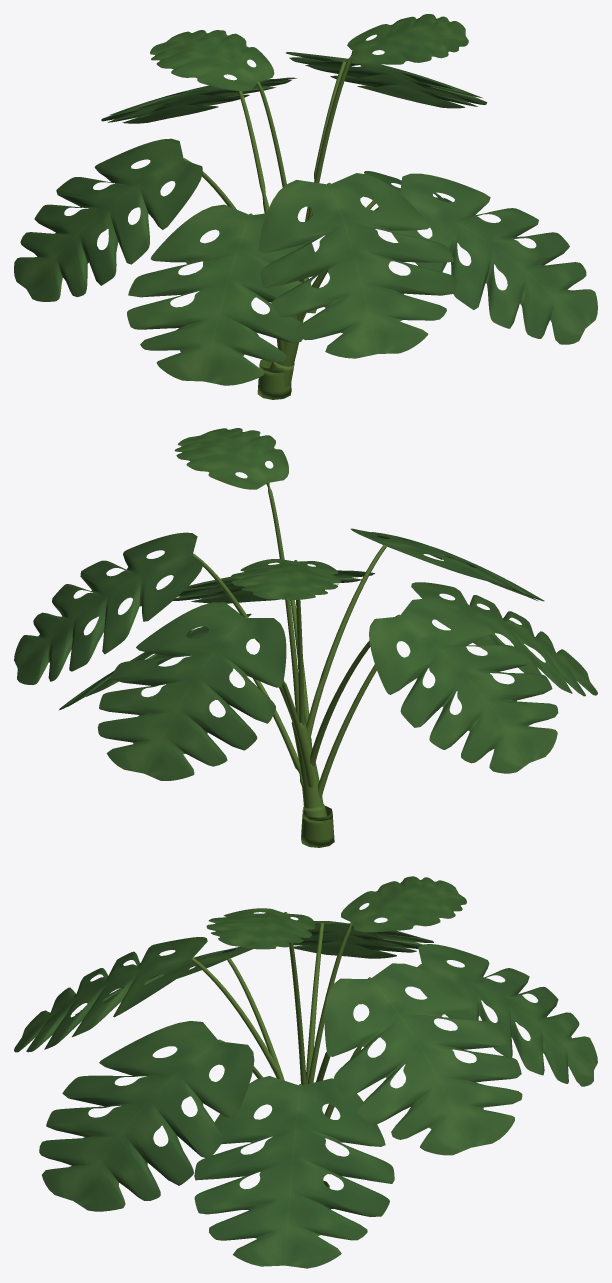
File: n-splitleaf.glb
3 renders of one model, top to bottom at view 1: azimuth 30°, elevation 25°; view 2: azimuth 150°, elevation 25°; view 3: azimuth 270°, elevation 25°, orthographic.
Parts seen in each view (by area): view 1: Foliage, Stems; view 2: Foliage, Stems; view 3: Foliage, Stems.
Part boxes in pixels (x1,y1,x2,y2): Foliage: [14, 14, 597, 385]; Stems: [183, 51, 378, 399]; Foliage: [14, 428, 597, 780]; Stems: [192, 482, 399, 847]; Foliage: [14, 876, 597, 1268]; Stems: [192, 912, 422, 1209].
Size of the model in its own units: 1.55 by 1.05 by 1.6.
2 materials, 1 textured.
